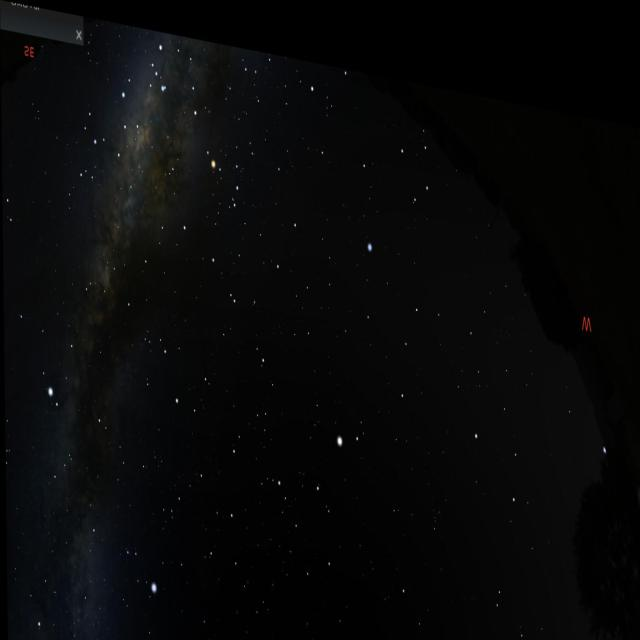aquila: (35, 256, 117, 441)
bootes: (278, 363, 372, 581)
leo: (463, 358, 610, 534)
lyra: (122, 533, 162, 593)
sagittarius: (72, 53, 151, 188)
scorpius: (148, 23, 248, 213)
